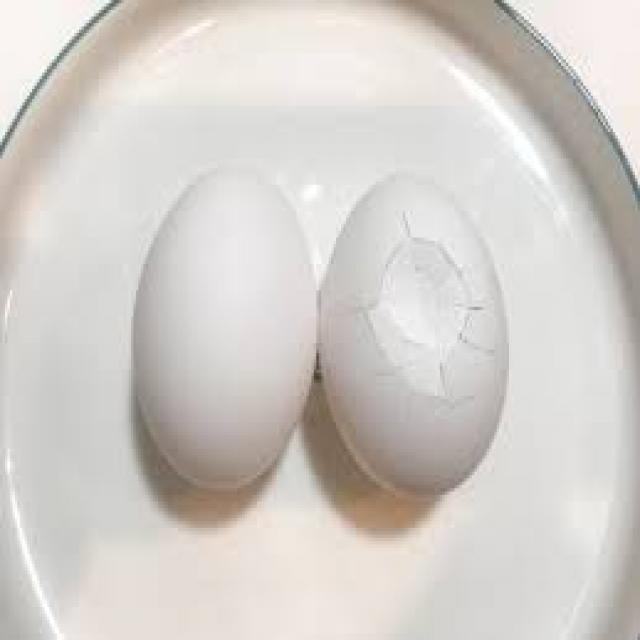biodegradable: (318, 168, 510, 502), (128, 160, 318, 496)
